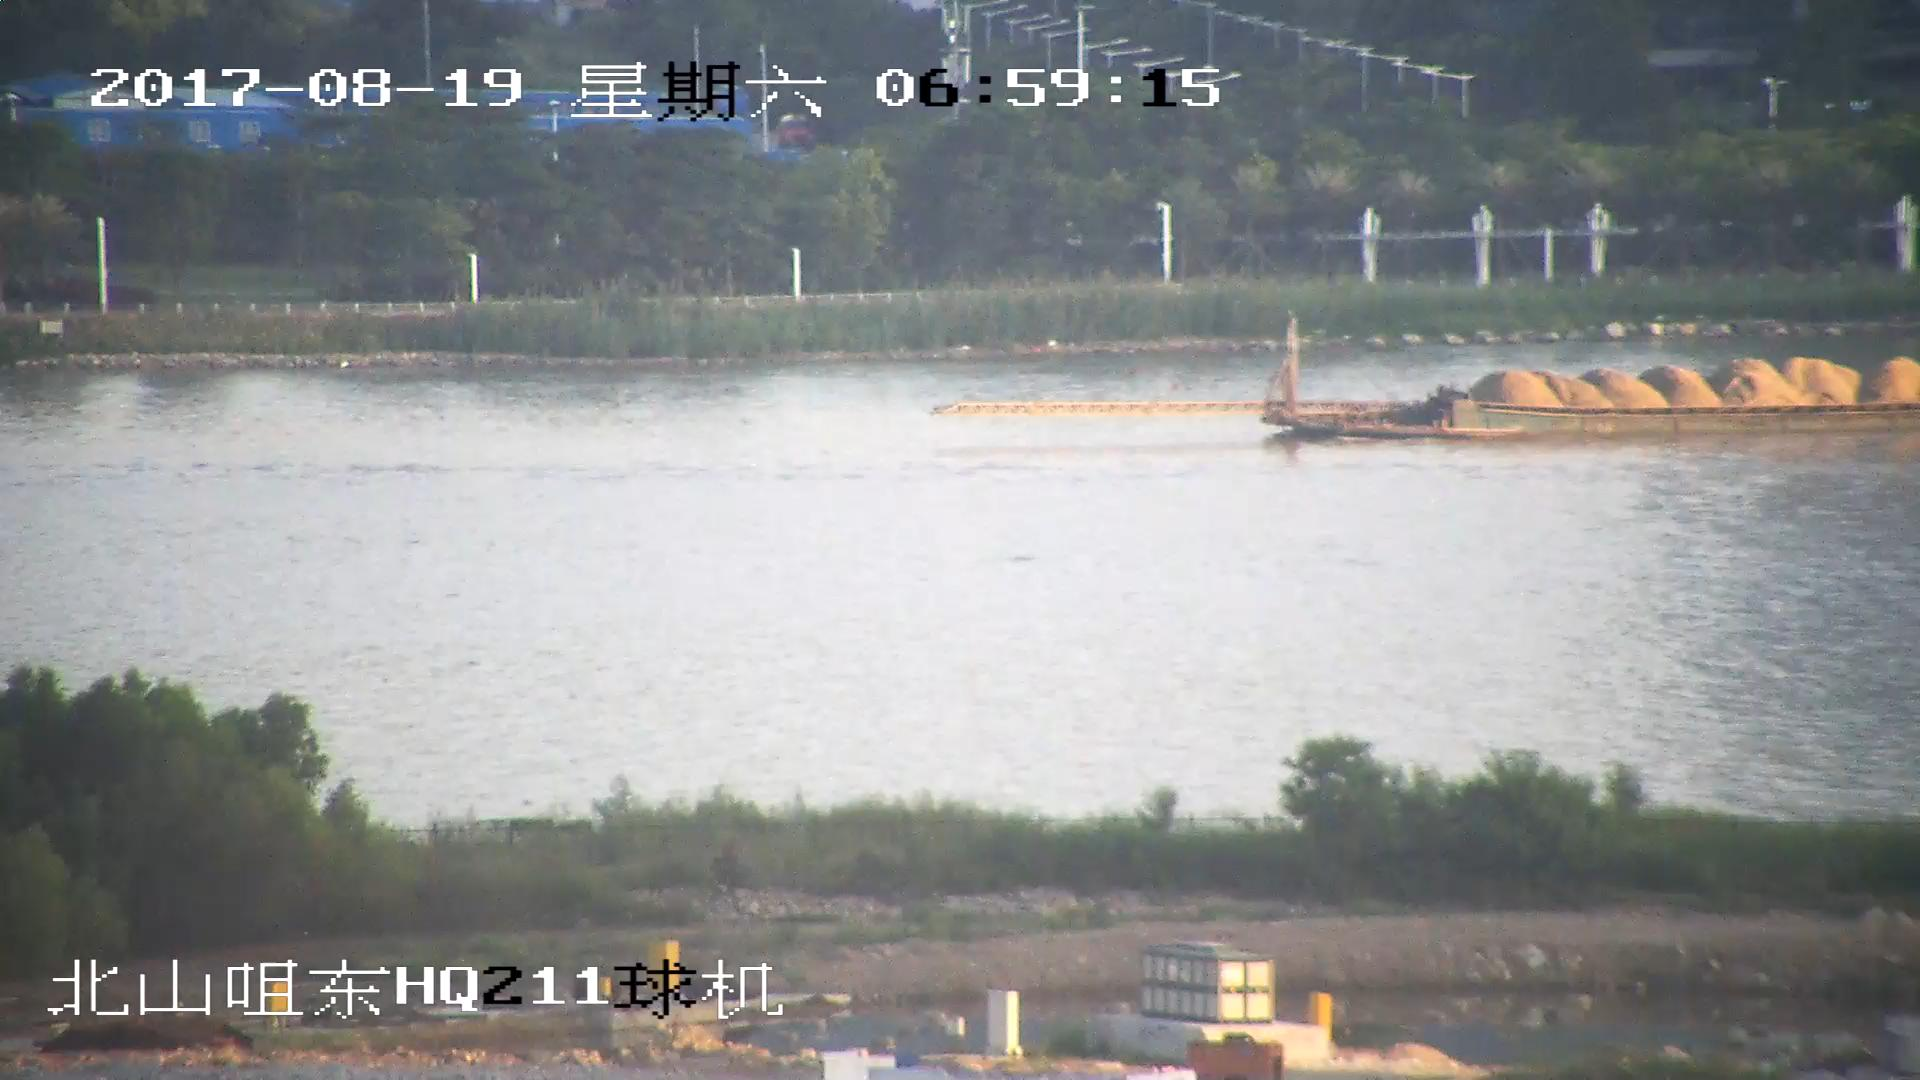ore carrier: (932, 317, 1920, 443)
